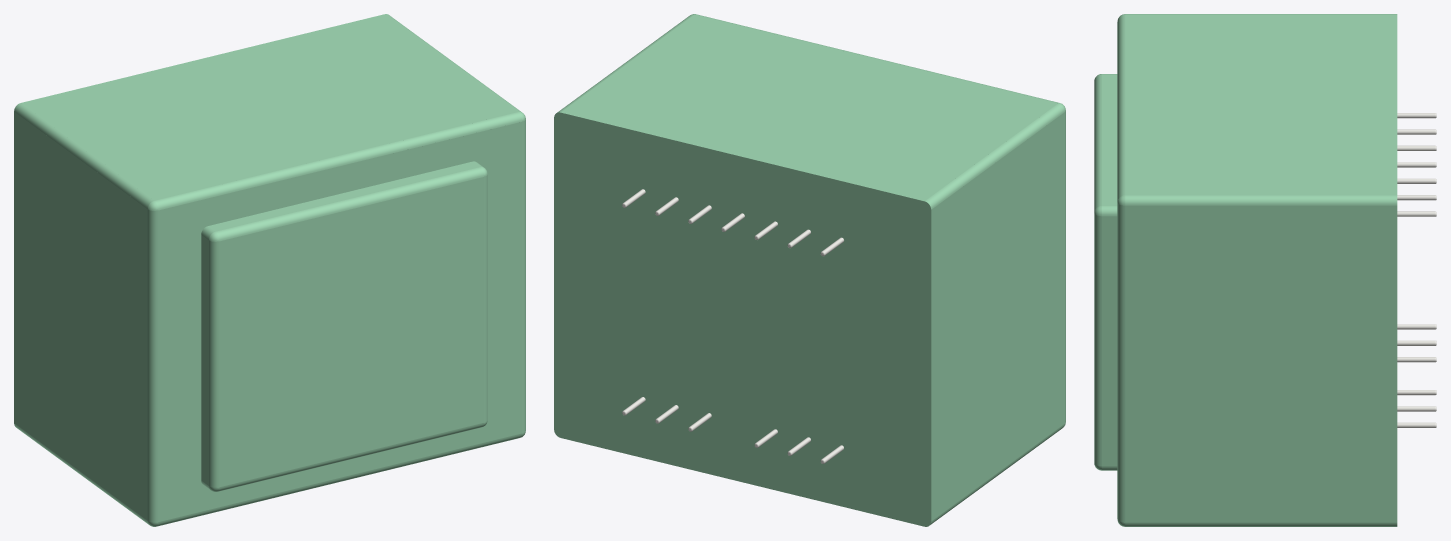
The model's file is Transformer_Breve_TEZ-47x57.glb.
3 views of the same model, side by side, from view 1: azimuth 30°, elevation 25°; view 2: azimuth 150°, elevation 25°; view 3: azimuth 270°, elevation 25° (orthographic).
Visible parts, largest first — view 1: Shape_IndexedFaceSet.055, Shape_IndexedFaceSet.078, Shape_IndexedFaceSet.081, Shape_IndexedFaceSet.059, Shape_IndexedFaceSet.066, Shape_IndexedFaceSet.068, Shape_IndexedFaceSet.061, Shape_IndexedFaceSet.062, Shape_IndexedFaceSet.071, Shape_IndexedFaceSet.069, Shape_IndexedFaceSet.085, Shape_IndexedFaceSet.067 (+3 smaller); view 2: Shape_IndexedFaceSet.084, Shape_IndexedFaceSet.078, Shape_IndexedFaceSet.081, Shape_IndexedFaceSet.085; view 3: Shape_IndexedFaceSet.075, Shape_IndexedFaceSet.078, Shape_IndexedFaceSet.064, Shape_IndexedFaceSet.082, Shape_IndexedFaceSet.065, Shape_IndexedFaceSet.071, Shape_IndexedFaceSet.057, Shape_IndexedFaceSet.066, Shape_IndexedFaceSet.083, Shape_IndexedFaceSet.061.
Boxes of the visible parts, left/top/right/bottom form: Shape_IndexedFaceSet.055: left=219, top=177, right=483, bottom=487; Shape_IndexedFaceSet.078: left=21, top=14, right=517, bottom=200; Shape_IndexedFaceSet.081: left=14, top=112, right=147, bottom=520; Shape_IndexedFaceSet.059: left=158, top=122, right=521, bottom=521; Shape_IndexedFaceSet.066: left=155, top=112, right=521, bottom=210; Shape_IndexedFaceSet.068: left=147, top=209, right=158, bottom=522; Shape_IndexedFaceSet.061: left=216, top=167, right=483, bottom=241; Shape_IndexedFaceSet.062: left=209, top=240, right=219, bottom=487; Shape_IndexedFaceSet.071: left=208, top=161, right=479, bottom=231; Shape_IndexedFaceSet.069: left=201, top=235, right=208, bottom=485; Shape_IndexedFaceSet.085: left=14, top=103, right=153, bottom=208; Shape_IndexedFaceSet.067: left=157, top=433, right=521, bottom=526; Shape_IndexedFaceSet.084: left=554, top=112, right=931, bottom=526; Shape_IndexedFaceSet.078: left=561, top=14, right=1057, bottom=201; Shape_IndexedFaceSet.081: left=931, top=112, right=1064, bottom=520; Shape_IndexedFaceSet.085: left=925, top=103, right=1064, bottom=209; Shape_IndexedFaceSet.075: left=1125, top=205, right=1397, bottom=522; Shape_IndexedFaceSet.078: left=1125, top=14, right=1397, bottom=195; Shape_IndexedFaceSet.064: left=1102, top=216, right=1117, bottom=466; Shape_IndexedFaceSet.082: left=1125, top=195, right=1397, bottom=205; Shape_IndexedFaceSet.065: left=1117, top=202, right=1125, bottom=522; Shape_IndexedFaceSet.071: left=1102, top=74, right=1117, bottom=205; Shape_IndexedFaceSet.057: left=1094, top=214, right=1101, bottom=466; Shape_IndexedFaceSet.066: left=1117, top=14, right=1125, bottom=201; Shape_IndexedFaceSet.083: left=1125, top=522, right=1397, bottom=526; Shape_IndexedFaceSet.061: left=1094, top=74, right=1101, bottom=210.
Bounding box in the file's own units: 22.44 × 18.5 × 17.36.
